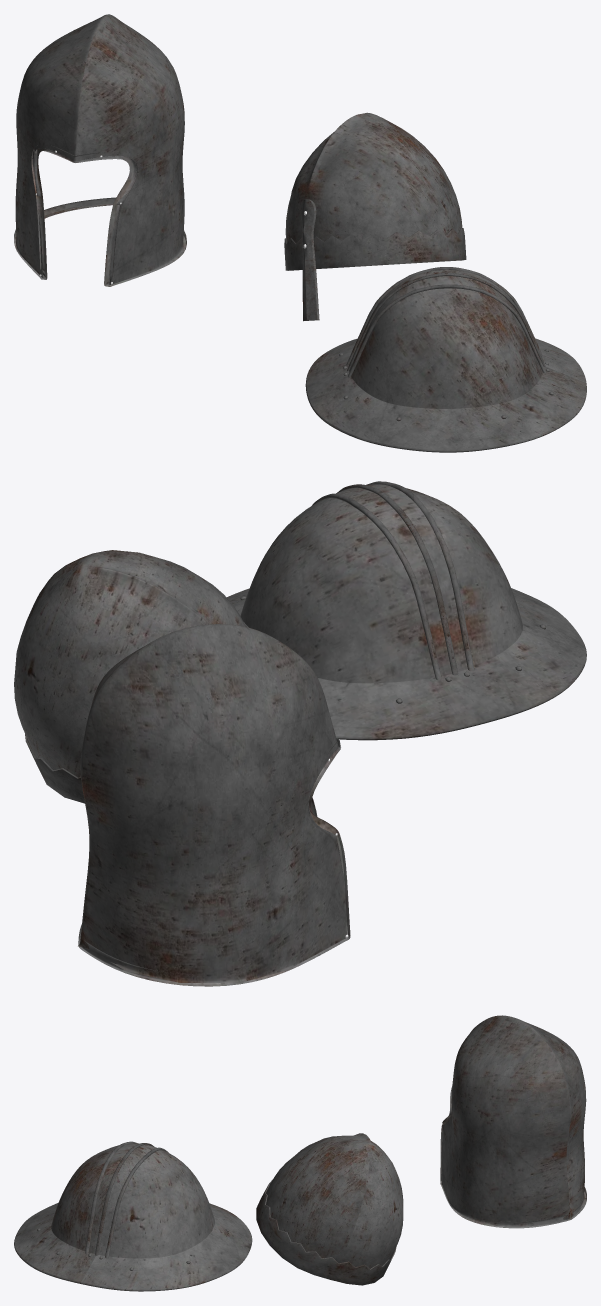
Rendered from casco glb.draco.glb.
3 views of the same model, one above another, from view 1: azimuth 30°, elevation 25°; view 2: azimuth 150°, elevation 25°; view 3: azimuth 270°, elevation 25° (orthographic). The views are drawn at different scales.
Parts seen in each view (by area): view 1: HelmetA_Base, HelmetC_Base, Helmet_B_Base, Rim, HelmetC_Base_Rim, HelmetA_Lines, Nose; view 2: HelmetC_Base, HelmetA_Base, Helmet_B_Base, HelmetA_Lines, HelmetC_Base_Rim, Rim; view 3: HelmetC_Base, HelmetA_Base, Helmet_B_Base, Rim, HelmetA_Lines, HelmetC_Base_Rim.
Part boxes in pixels (x1,y1,x2,y2): HelmetA_Base: (305, 269, 586, 452); HelmetC_Base: (15, 14, 184, 285); Helmet_B_Base: (285, 112, 463, 270); Rim: (284, 228, 466, 270); HelmetC_Base_Rim: (14, 145, 186, 286); HelmetA_Lines: (346, 267, 546, 377); Nose: (301, 199, 319, 321); HelmetC_Base: (78, 624, 347, 982); HelmetA_Base: (227, 484, 586, 740); Helmet_B_Base: (14, 550, 245, 777); HelmetA_Lines: (312, 481, 474, 680); HelmetC_Base_Rim: (78, 738, 350, 986); Rim: (25, 622, 248, 803); HelmetC_Base: (441, 1015, 586, 1226); HelmetA_Base: (14, 1143, 252, 1291); Helmet_B_Base: (266, 1133, 403, 1268); Rim: (256, 1179, 396, 1285); HelmetA_Lines: (85, 1141, 168, 1258); HelmetC_Base_Rim: (440, 1086, 586, 1228).
Size of the model in its own units: 1.42 by 0.9729 by 2.73.
4 materials, 2 textured.
